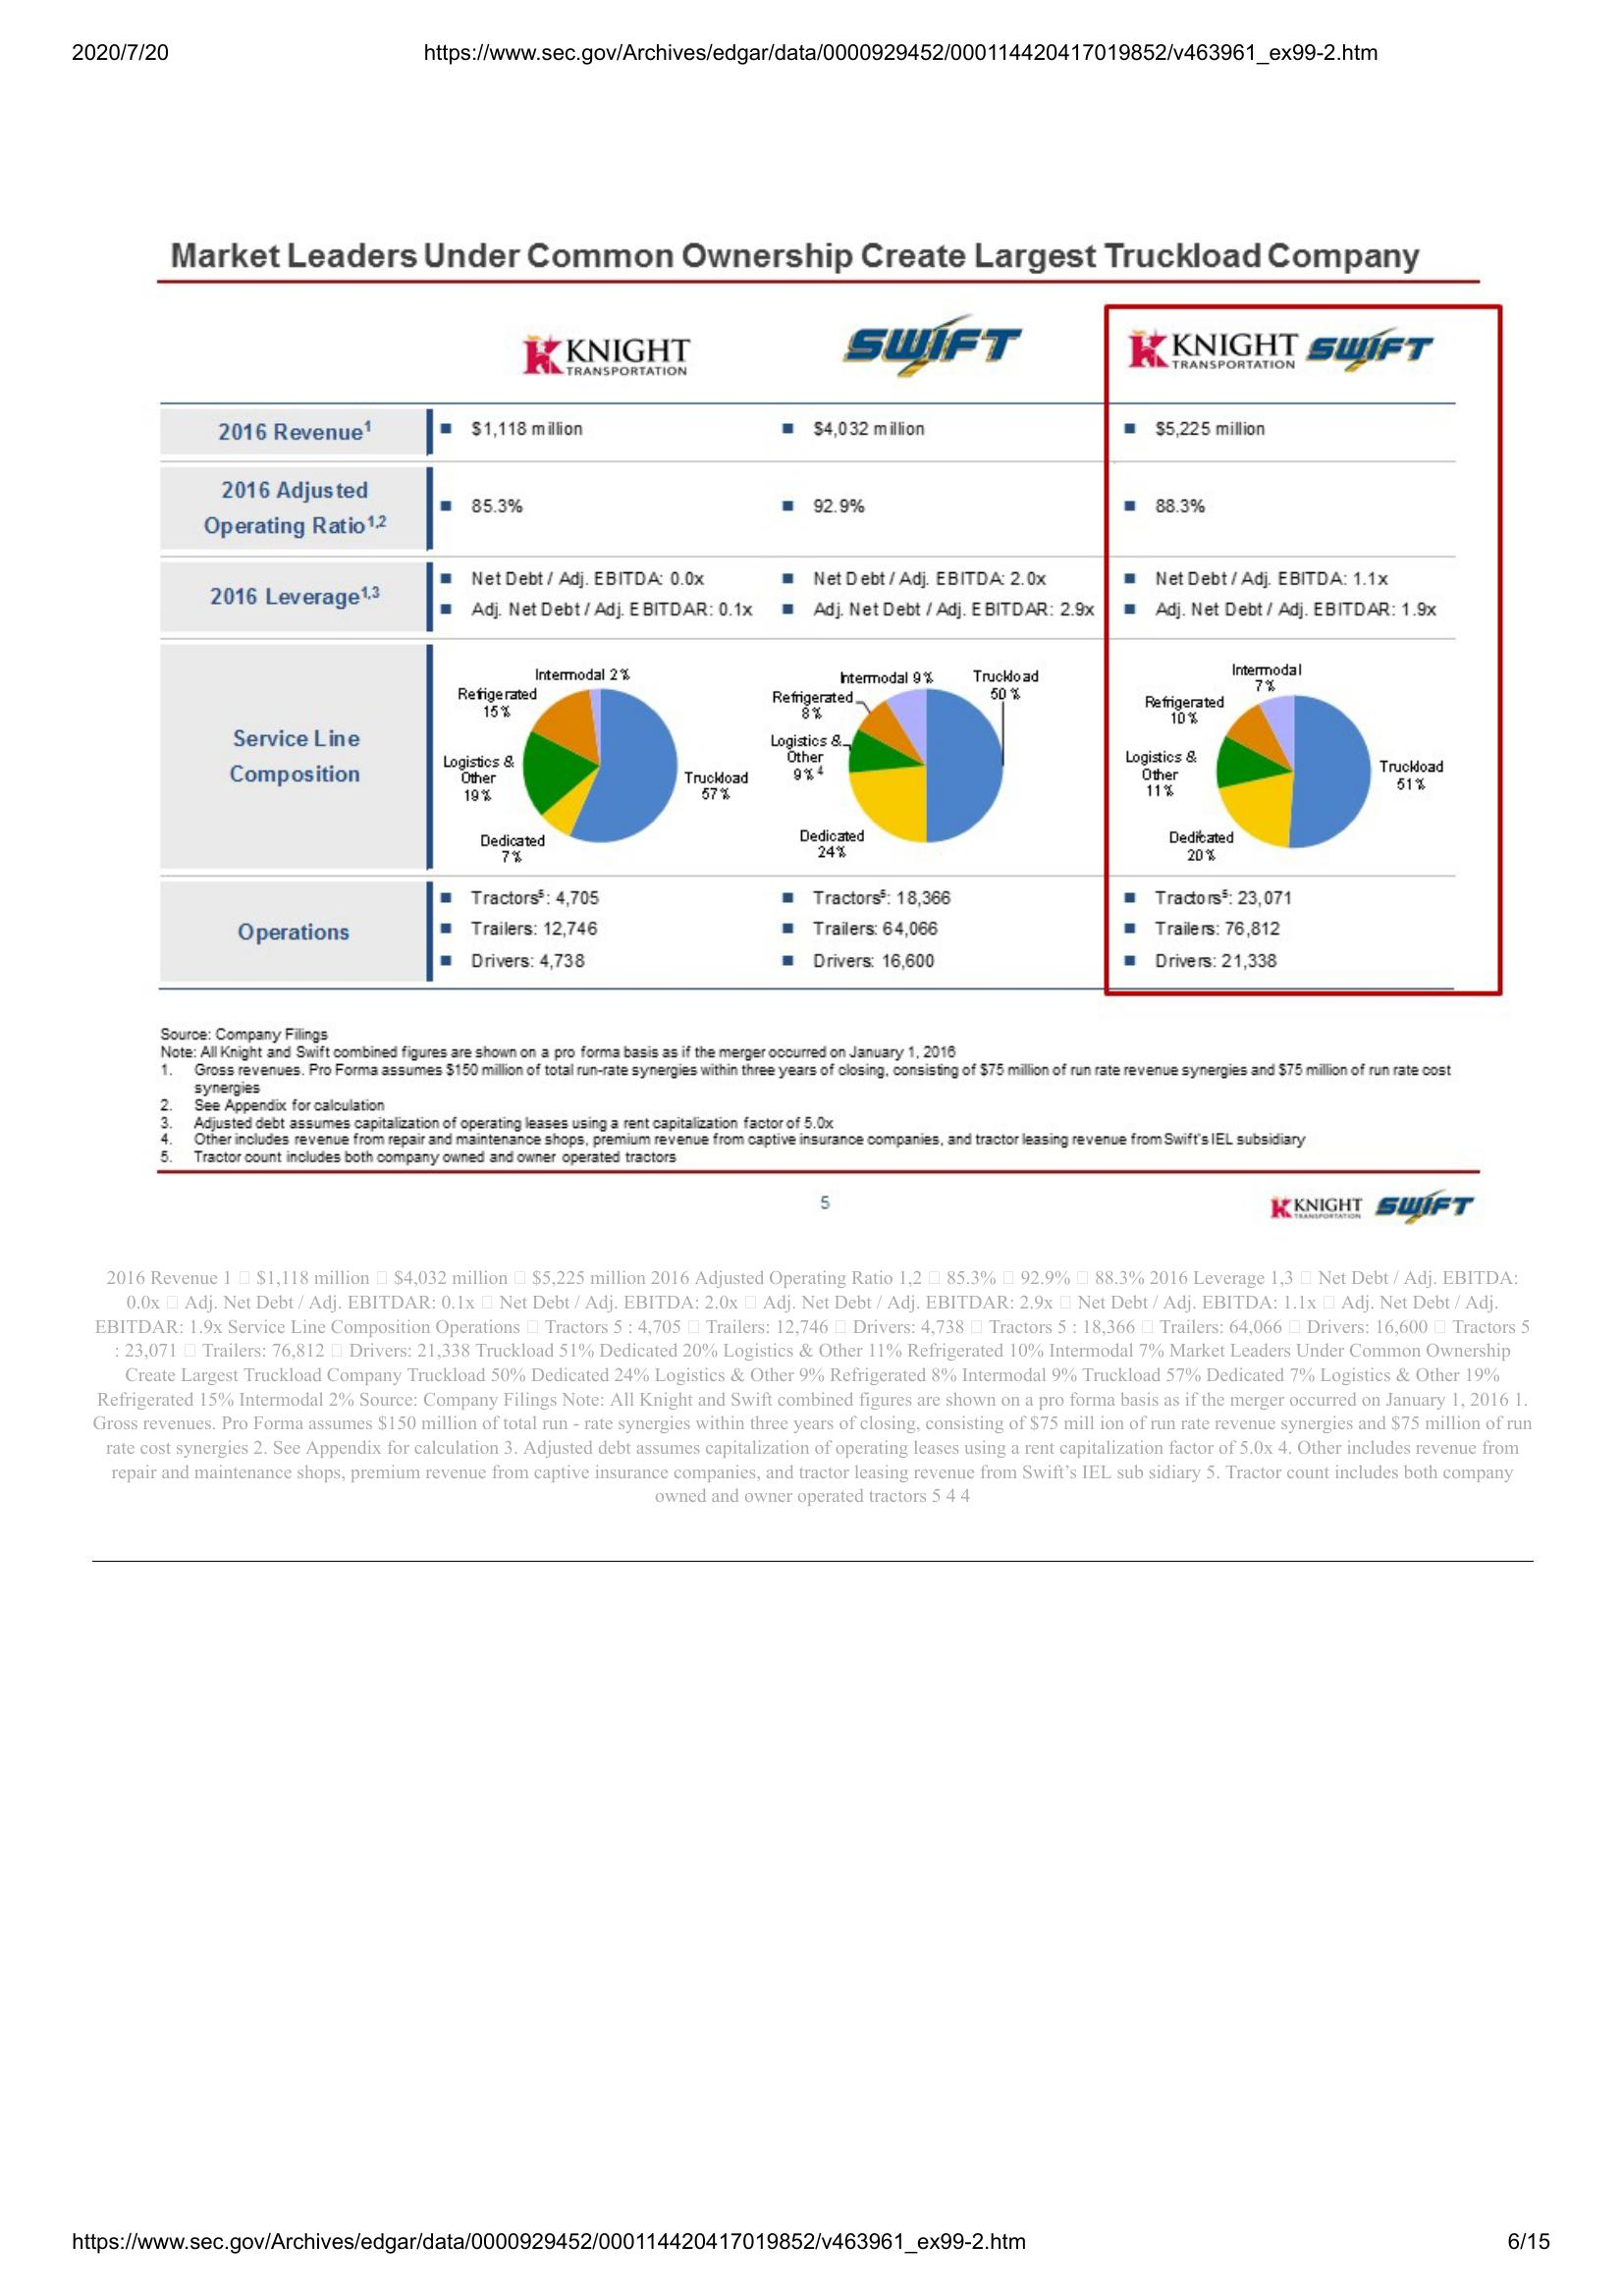table: (148, 297, 1519, 1002)
